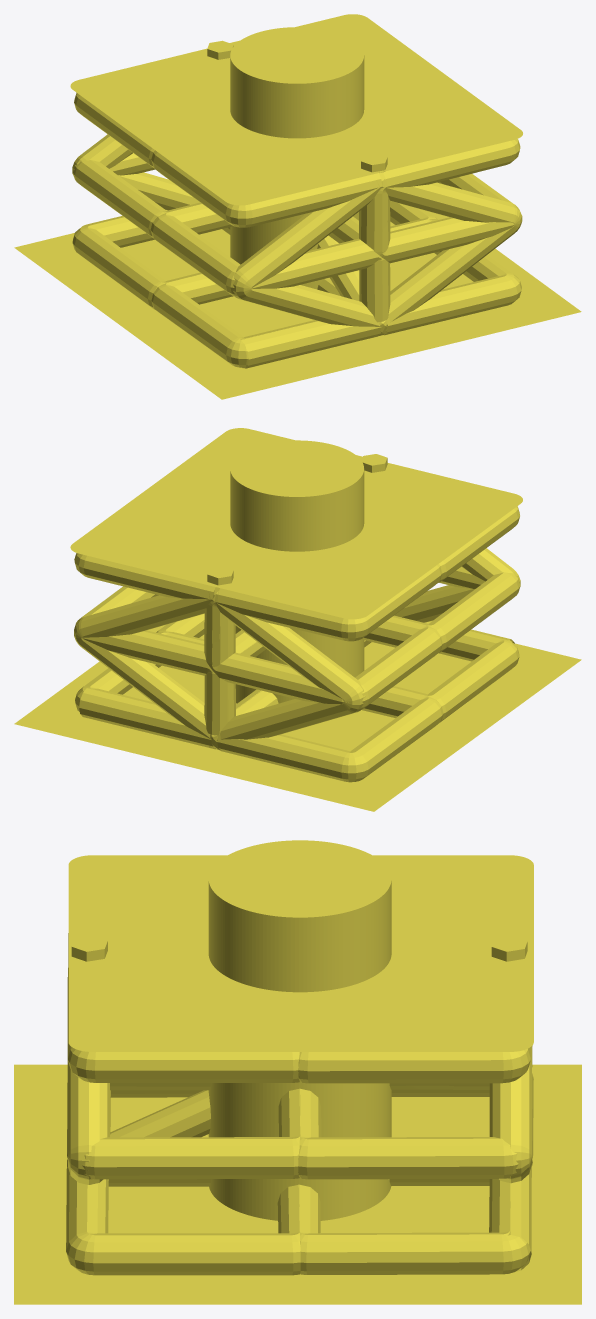
The model's file is assets.gltf.
The picture shows the model from 3 angles, top to bottom: view 1: azimuth 30°, elevation 25°; view 2: azimuth 150°, elevation 25°; view 3: azimuth 270°, elevation 25°; orthographic projection. The views are drawn at different scales.
Parts seen in each view (by area): view 1: Plane.009, Plane.008, Plane.002, Plane, Cylinder, Plane.003, Plane.006, Plane.004, Plane.010, Plane.005; view 2: Plane.009, Plane.008, Plane.006, Cylinder, Plane.004, Plane.005, Plane.002, Plane.003, Plane; view 3: Plane.009, Plane.008, Cylinder, Plane.005, Plane, Plane.003, Plane.004, Plane.010, Plane.002, Plane.006, Circle.001, Circle.002.
Boxes of the visible parts, left/top/right/bottom form: Plane.009: left=70, top=14, right=522, bottom=205; Plane.008: left=14, top=211, right=581, bottom=399; Plane.002: left=150, top=150, right=390, bottom=368; Plane: left=317, top=139, right=521, bottom=335; Cylinder: left=230, top=27, right=364, bottom=289; Plane.003: left=233, top=176, right=522, bottom=331; Plane.006: left=72, top=92, right=201, bottom=309; Plane.004: left=72, top=134, right=199, bottom=210; Plane.010: left=317, top=235, right=359, bottom=300; Plane.005: left=222, top=201, right=437, bottom=234; Plane.009: left=70, top=428, right=522, bottom=619; Plane.008: left=14, top=625, right=581, bottom=811; Plane.006: left=204, top=564, right=443, bottom=782; Cylinder: left=230, top=440, right=364, bottom=703; Plane.004: left=74, top=591, right=365, bottom=746; Plane.005: left=74, top=553, right=278, bottom=749; Plane.002: left=392, top=506, right=520, bottom=722; Plane.003: left=394, top=548, right=520, bottom=622; Plane: left=156, top=613, right=371, bottom=647; Plane.009: left=68, top=855, right=533, bottom=1051; Plane.008: left=14, top=1064, right=581, bottom=1304; Cylinder: left=208, top=840, right=391, bottom=1220; Plane.005: left=298, top=1047, right=531, bottom=1274; Plane: left=66, top=974, right=300, bottom=1275; Plane.003: left=68, top=972, right=109, bottom=1184; Plane.004: left=490, top=1046, right=531, bottom=1183; Plane.010: left=110, top=1090, right=210, bottom=1137; Plane.002: left=67, top=933, right=210, bottom=1186; Plane.006: left=389, top=1045, right=533, bottom=1185; Circle.001: left=491, top=935, right=527, bottom=961; Circle.002: left=71, top=935, right=107, bottom=961.
Size of the model in its own units: 0.2695 by 0.1601 by 0.2695.
